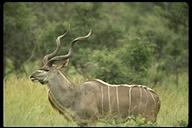antelope: (29, 23, 162, 125)
grass: (5, 86, 44, 122)
tree: (96, 31, 160, 83)
